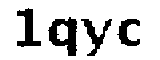1: (13, 6, 44, 50)
c: (117, 16, 145, 49)
q: (48, 14, 83, 59)
y: (80, 14, 112, 59)
